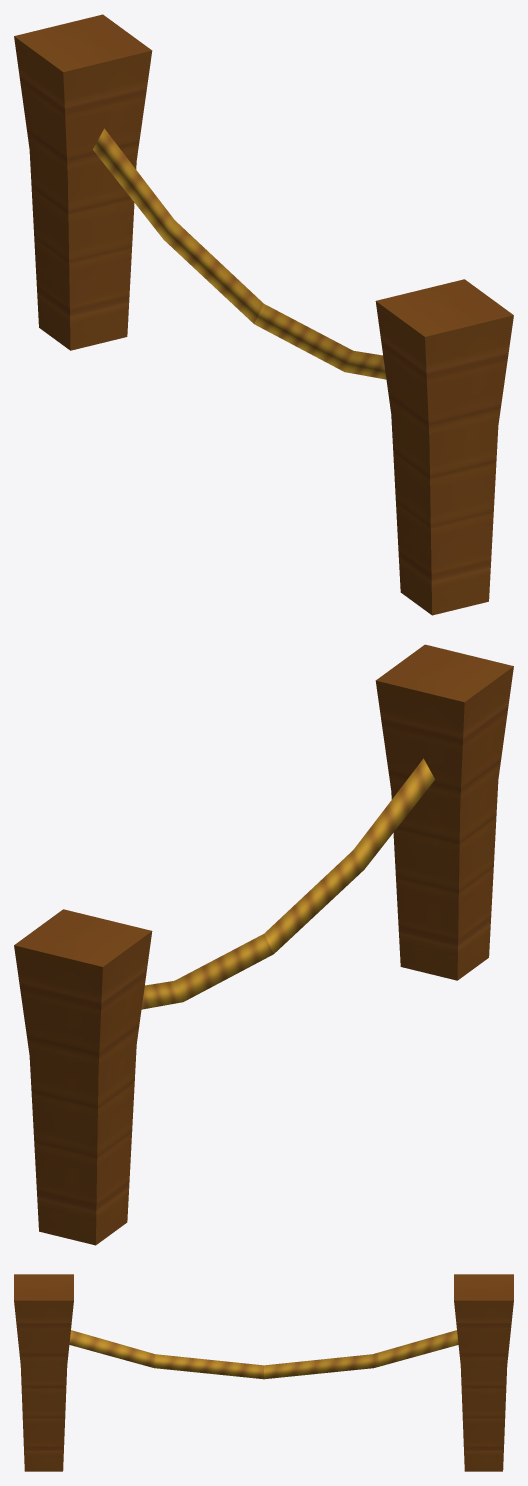
The model's file is STB0110002.FBX.
3 renders of one model, top to bottom at view 1: azimuth 30°, elevation 25°; view 2: azimuth 150°, elevation 25°; view 3: azimuth 270°, elevation 25°, orthographic. The views are drawn at different scales.
Visible parts, largest first — view 1: smSTB0110002; view 2: smSTB0110002; view 3: smSTB0110002.
Part boxes in pixels (x1,y1,x2,y2): smSTB0110002: [14, 14, 513, 615]; smSTB0110002: [14, 644, 513, 1245]; smSTB0110002: [14, 1274, 513, 1471].
Size of the model in its own units: 0.2926 by 0.9078 by 2.34.
Materials: 1 (1 with a texture image).
